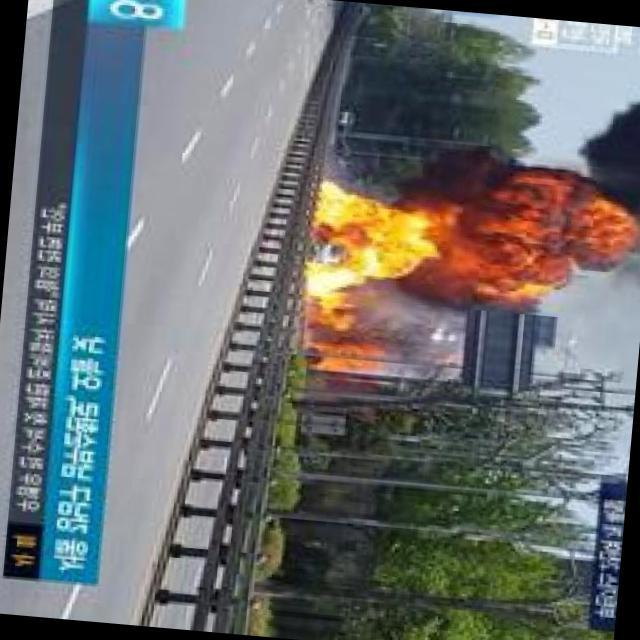Fire: (298, 182, 431, 297), (312, 341, 370, 376), (309, 285, 345, 312)
